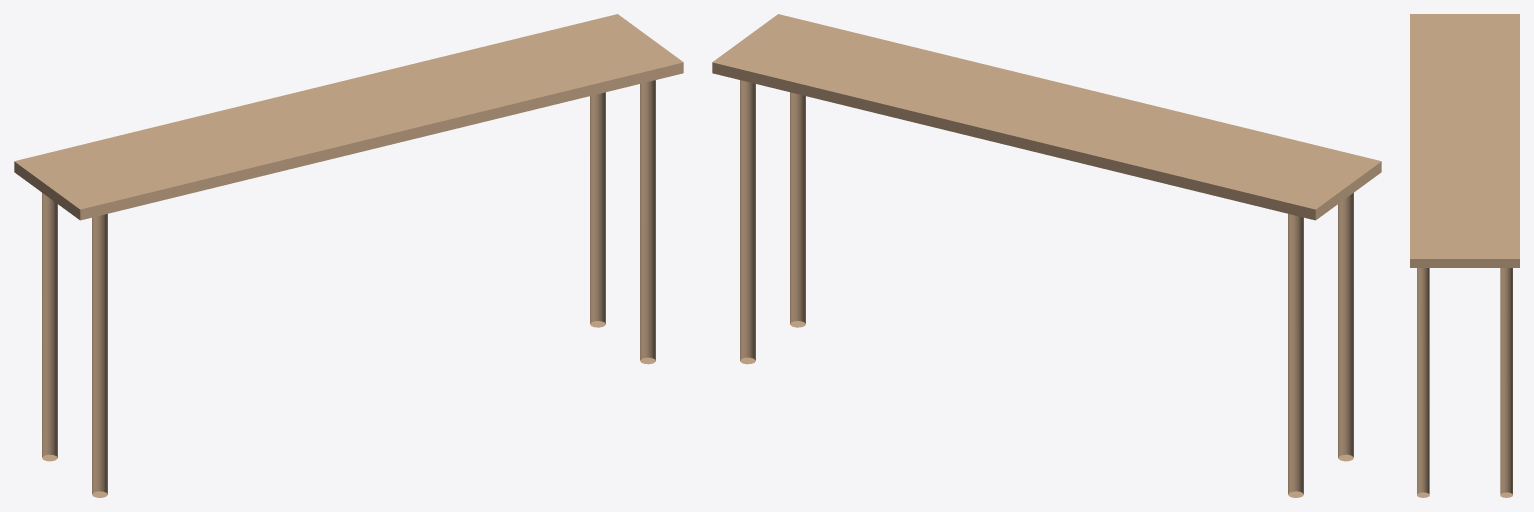
Rendered from console_table_10.glb.
3 views of the same model, side by side, from view 1: azimuth 30°, elevation 25°; view 2: azimuth 150°, elevation 25°; view 3: azimuth 270°, elevation 25° (orthographic). The views are drawn at different scales.
Bounding box in the file's own units: 1.74 × 0.82 × 0.33.
